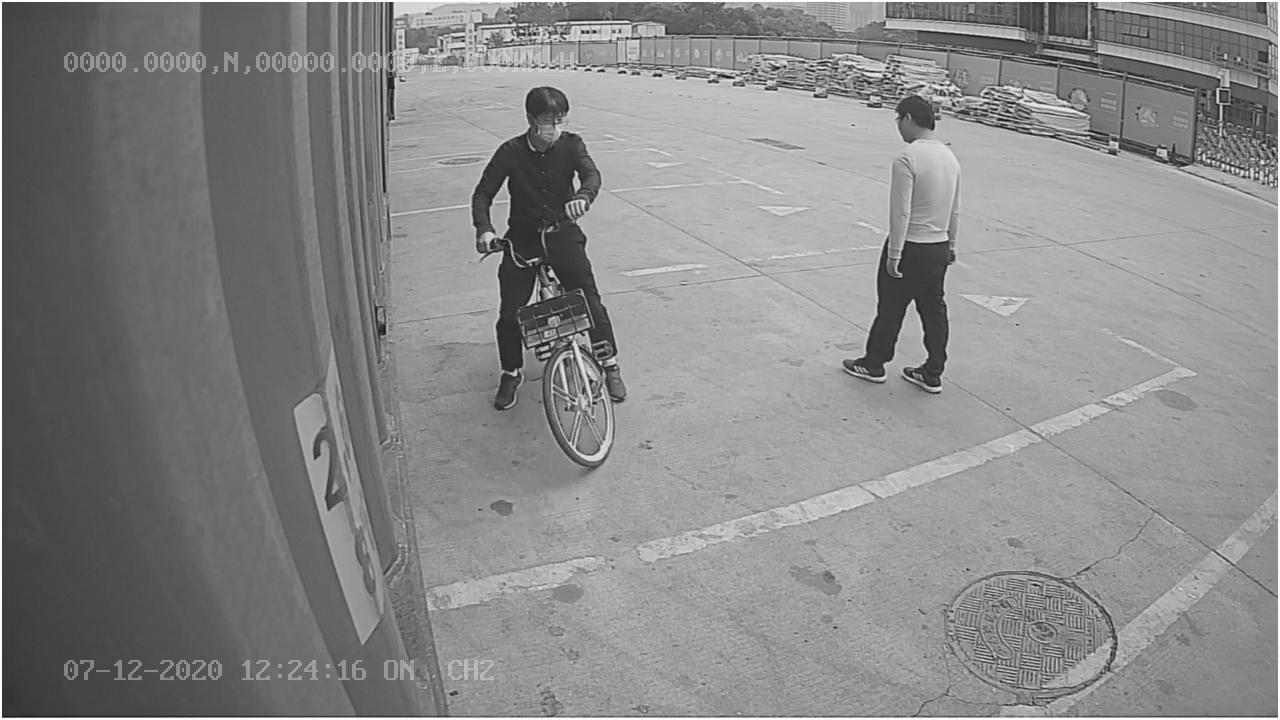person: (833, 91, 968, 397)
